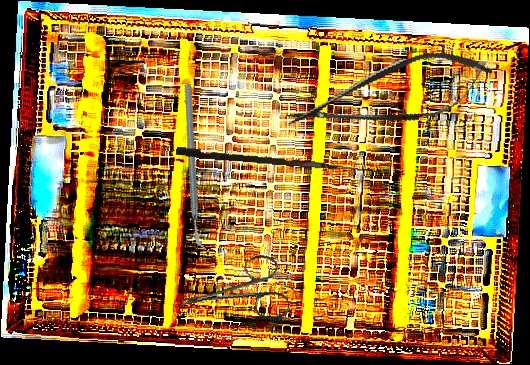Chopper: (132, 82, 259, 253)
Hook Surgical: (175, 146, 383, 174)
Iris Scissors: (168, 251, 292, 338)
Micro Scissor: (278, 37, 500, 153)
